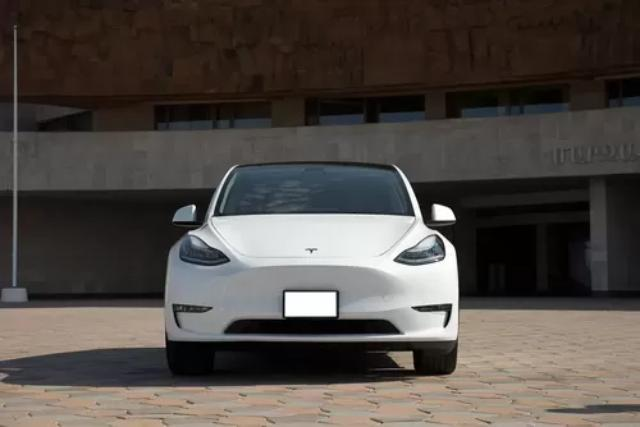tesla: (164, 160, 460, 376)
